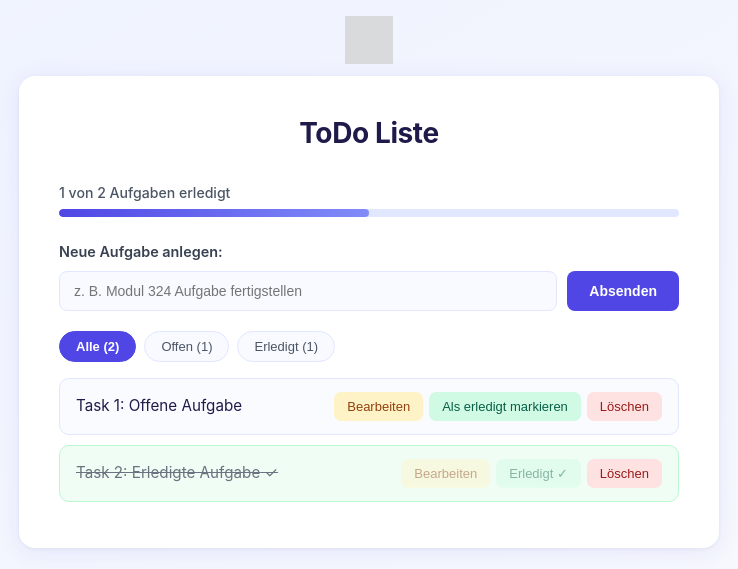
Test: App › US-20: filtert nur offene Aufgaben wenn Offen-Filter aktiv
Expected: the text "Task 1: Offene Aufgabe" is shown, [76, 396, 242, 415]
Click the button "Offen (1)" at (187, 346), box [144, 331, 230, 362]
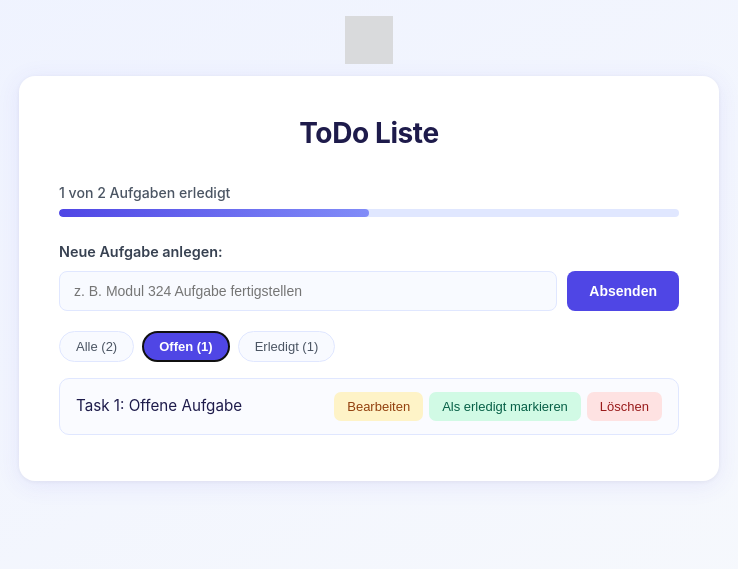
Expected: the text "Task 1: Offene Aufgabe" is shown, [76, 396, 242, 415]
Expected: the text "Erledigte Aufgabe" is gone
